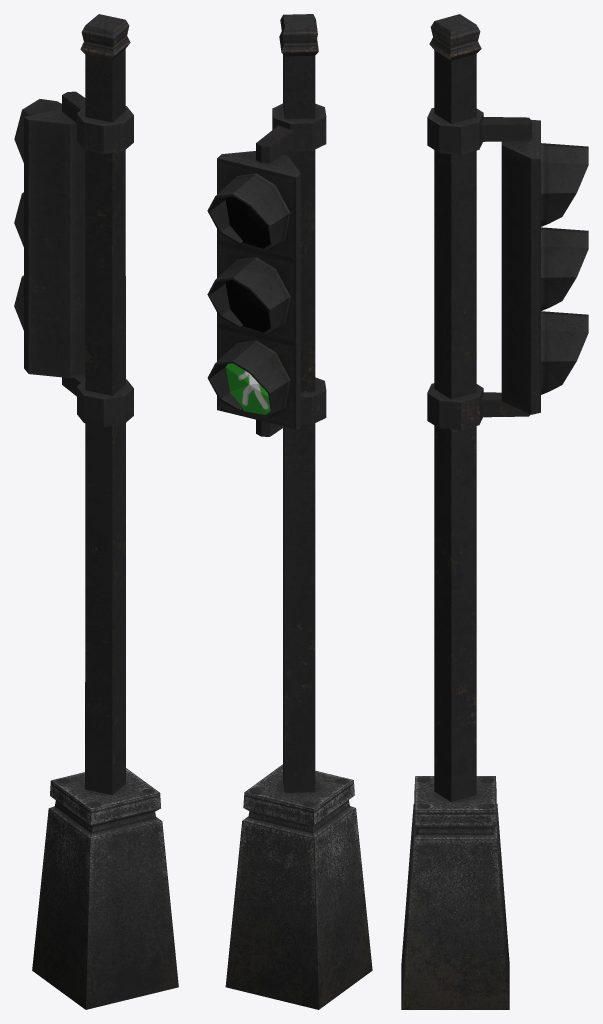
Rendered from Traffic_Light_Man_G.glb.
The picture shows the model from 3 angles, left to right: view 1: azimuth 30°, elevation 25°; view 2: azimuth 150°, elevation 25°; view 3: azimuth 270°, elevation 25°; orthographic projection.
Bounding box in the file's own units: 0.3526 × 3.46 × 0.6095.
2 materials, 2 textured.
